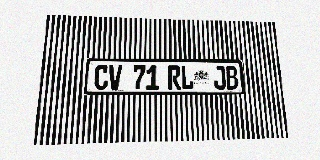1: (146, 65, 159, 90)
7: (132, 65, 145, 90)
B: (225, 66, 239, 89)
C: (94, 65, 108, 90)
J: (213, 66, 226, 89)
L: (181, 66, 194, 90)
R: (168, 66, 181, 90)
V: (108, 65, 122, 90)
